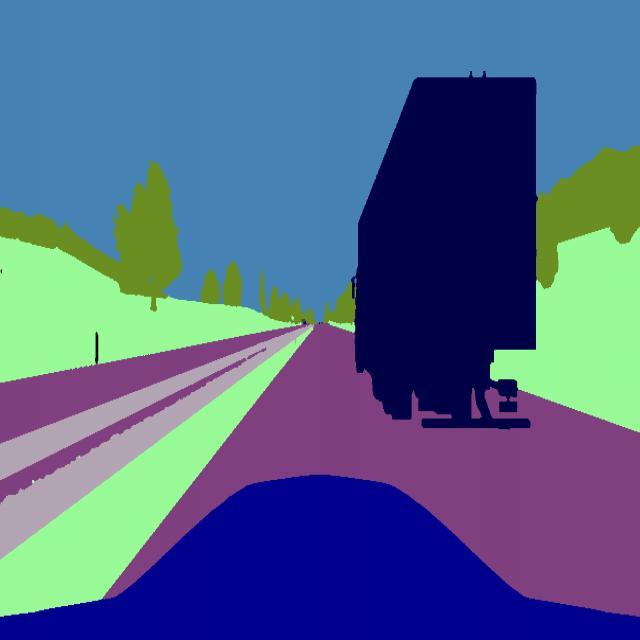unsafe: (348, 73, 542, 430)
